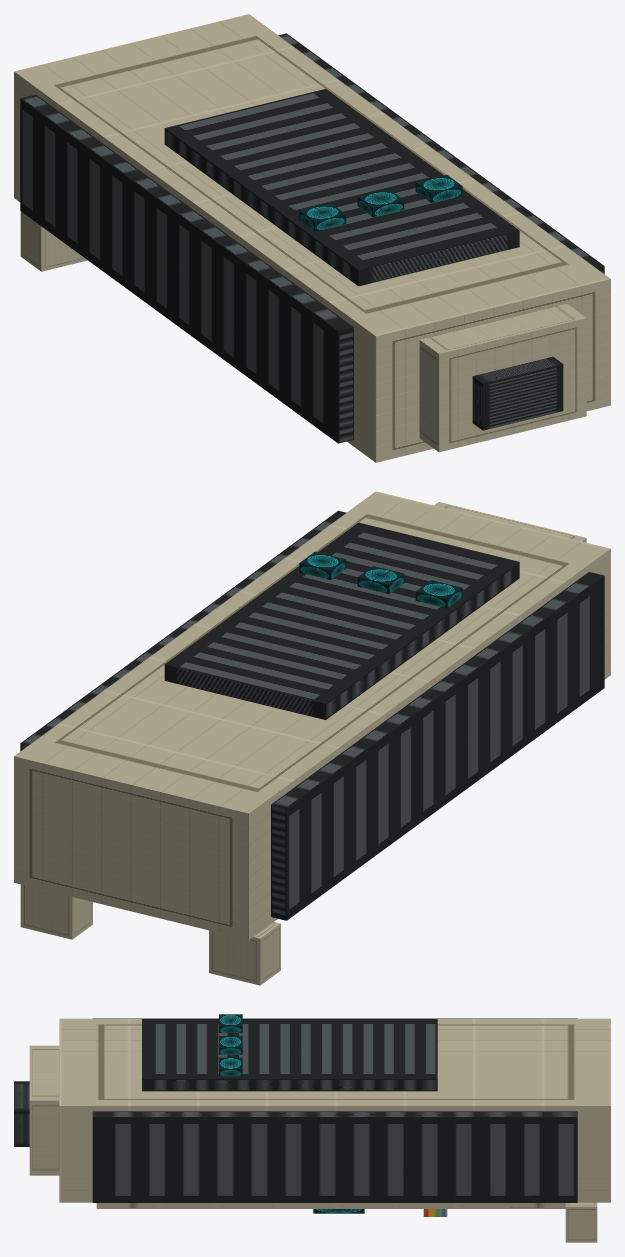
The model's file is rustchain_vintage_powerpc_tower.obj.
3 views of the same model, one above another, from view 1: azimuth 30°, elevation 25°; view 2: azimuth 150°, elevation 25°; view 3: azimuth 270°, elevation 25° (orthographic). The views are drawn at different scales.
Parts seen in each view (by area): view 1: rustchain_vintage_powerpc_tower; view 2: rustchain_vintage_powerpc_tower; view 3: rustchain_vintage_powerpc_tower.
Boxes of the visible parts, x1,y1,x2,y2 form: rustchain_vintage_powerpc_tower: [14, 14, 610, 462]; rustchain_vintage_powerpc_tower: [14, 491, 610, 985]; rustchain_vintage_powerpc_tower: [14, 1014, 610, 1242].
Size of the model in its own units: 1.19 by 0.875 by 3.03.
4 materials, 4 textured.
